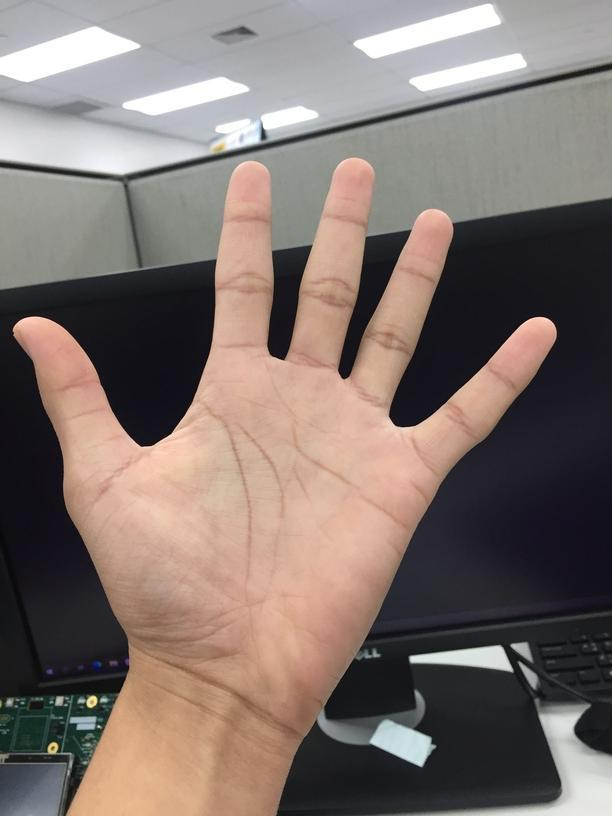hand: (10, 149, 560, 705)
